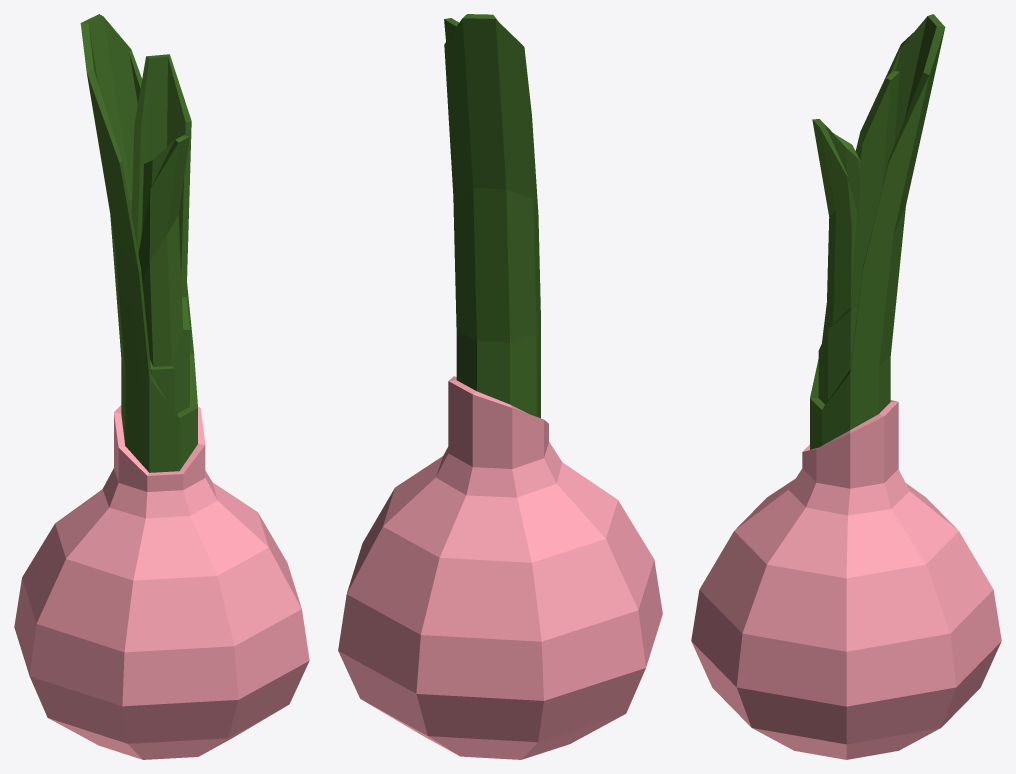
Rendered from Onion_4.fbx.
The picture shows the model from 3 angles, left to right: view 1: azimuth 30°, elevation 25°; view 2: azimuth 150°, elevation 25°; view 3: azimuth 270°, elevation 25°; orthographic projection. The views are drawn at different scales.
Parts seen in each view (by area): view 1: Onion_4; view 2: Onion_4; view 3: Onion_4.
Part boxes in pixels (x1,y1,x2,y2): Onion_4: (14, 14, 309, 759); Onion_4: (338, 14, 662, 759); Onion_4: (691, 14, 1001, 759).
Bounding box in the file's own units: 59.1 × 146 × 59.1.
